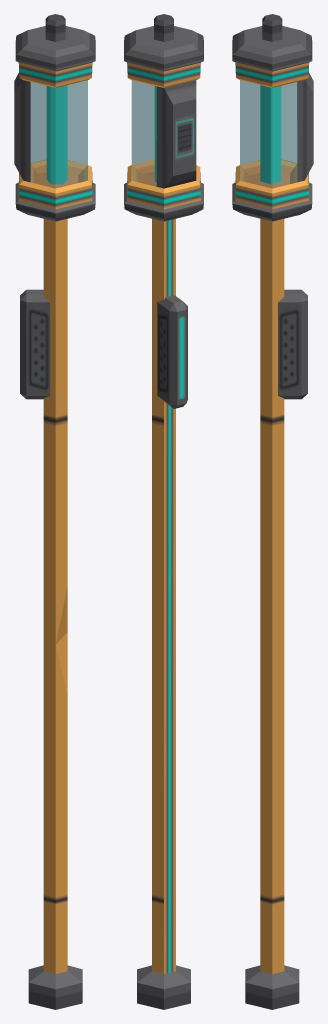
Rendered from SM_Prop_Lamp_01.fbx.
3 views of the same model, side by side, from view 1: azimuth 90°, elevation 25°; view 2: azimuth 210°, elevation 25°; view 3: azimuth 270°, elevation 25° (orthographic).
Parts seen in each view (by area): view 1: SM_Prop_Lamp_01; view 2: SM_Prop_Lamp_01; view 3: SM_Prop_Lamp_01.
Boxes of the visible parts, box(x1,y1,x2,y2) form: SM_Prop_Lamp_01: box(14, 14, 95, 1009); SM_Prop_Lamp_01: box(124, 14, 203, 1009); SM_Prop_Lamp_01: box(232, 14, 313, 1009).
Size of the model in its own units: 32.1 by 376 by 28.28.
